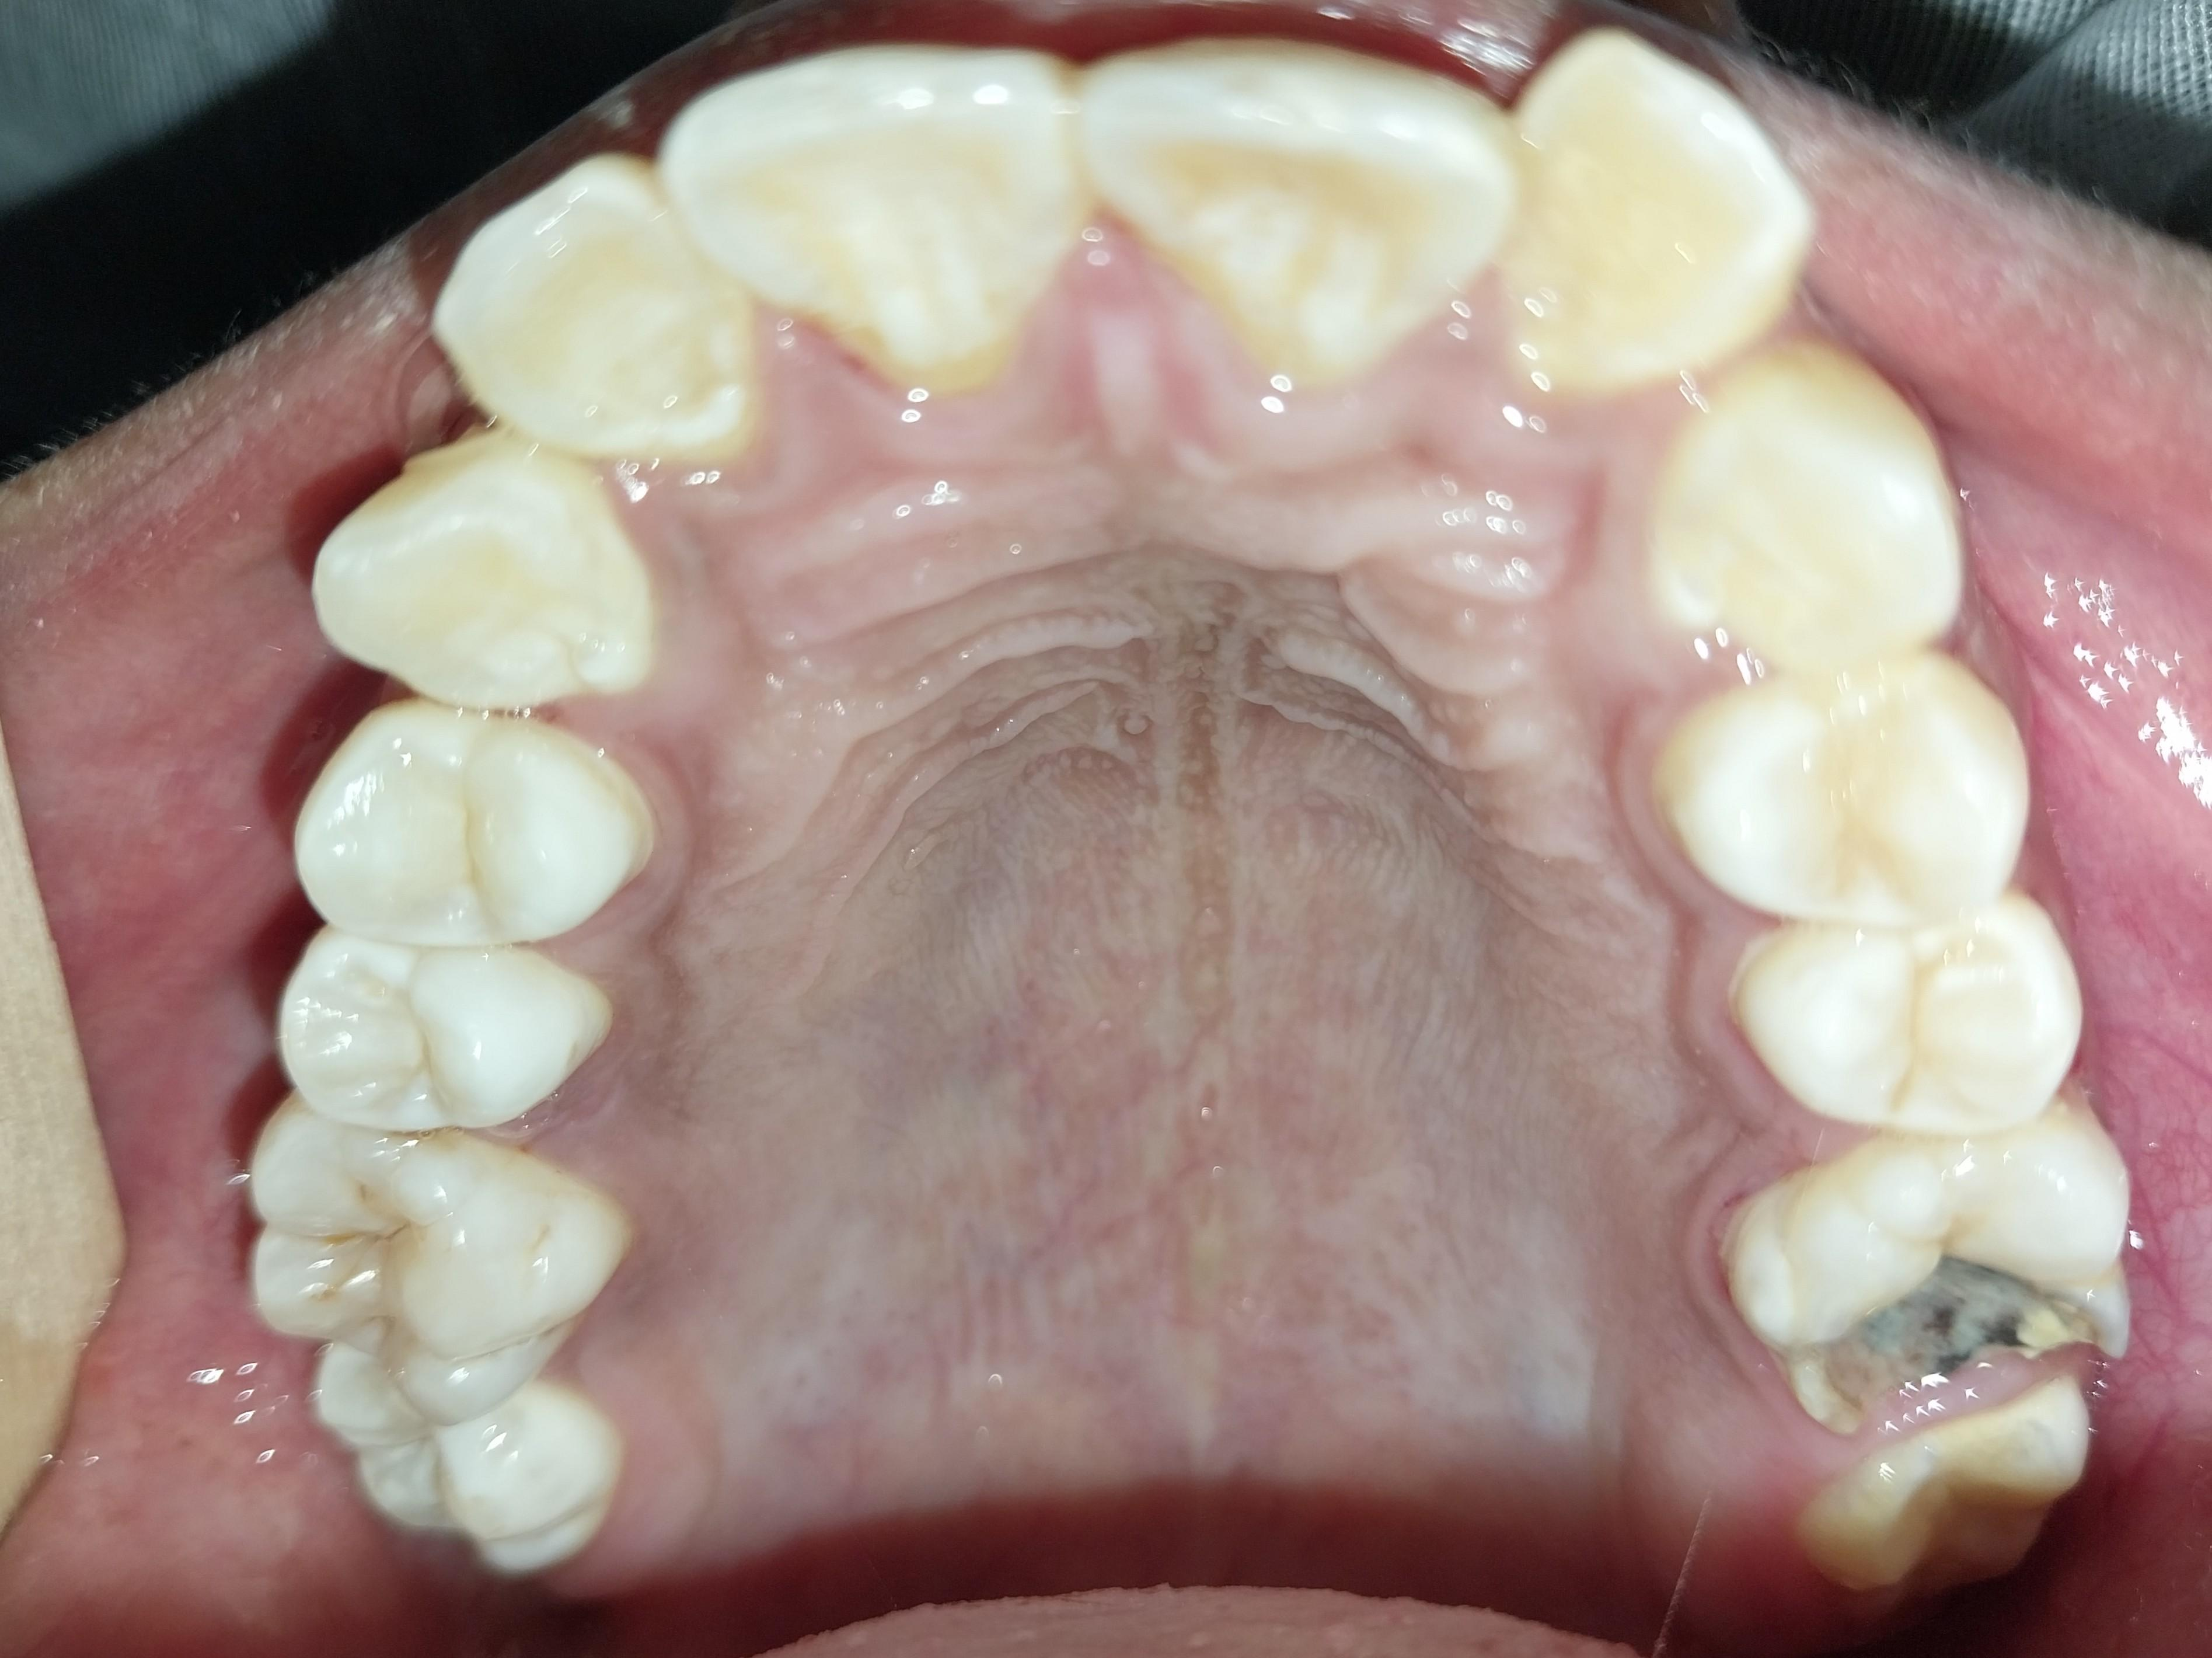D: (1722, 1123, 2136, 1430)
